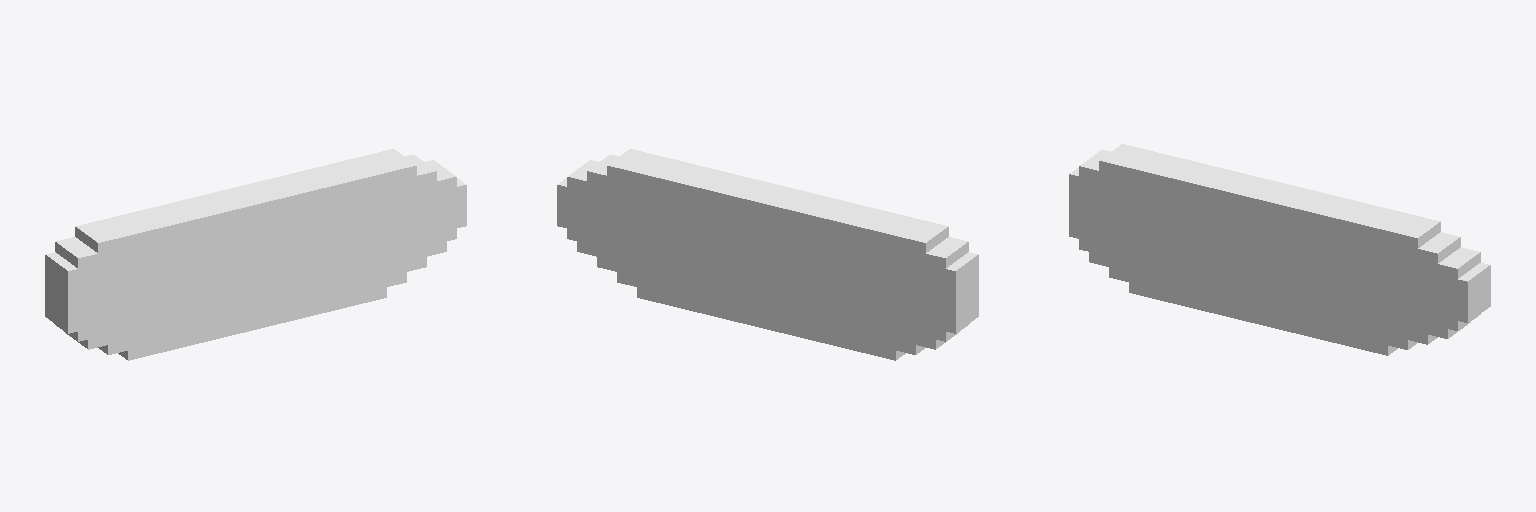
Rendered from TankTreads.obj.
3 renders of one model, left to right at view 1: azimuth 30°, elevation 25°; view 2: azimuth 150°, elevation 25°; view 3: azimuth 330°, elevation 25°, orthographic.
Parts seen in each view (by area): view 1: TankTreads; view 2: TankTreads; view 3: TankTreads.
Part boxes in pixels (bbox=[...]): TankTreads: bbox=[45, 149, 466, 360]; TankTreads: bbox=[557, 149, 978, 360]; TankTreads: bbox=[1069, 144, 1490, 355].
Size of the model in its own units: 40 by 12 by 4.